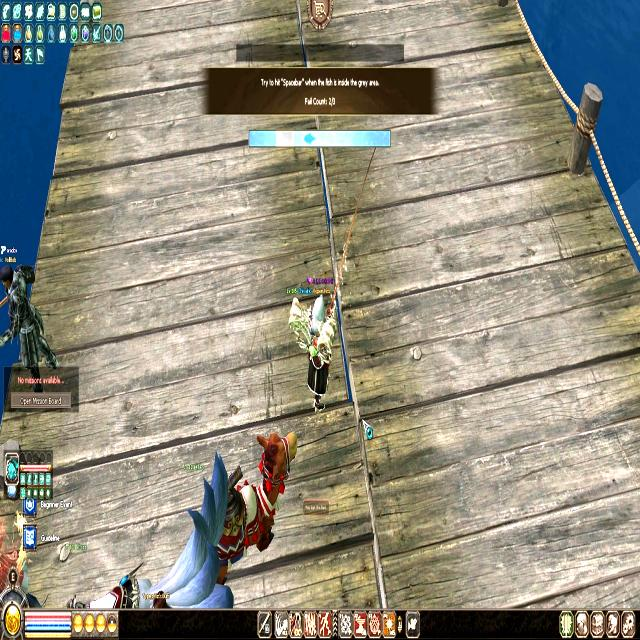fishes: (304, 132, 316, 146)
